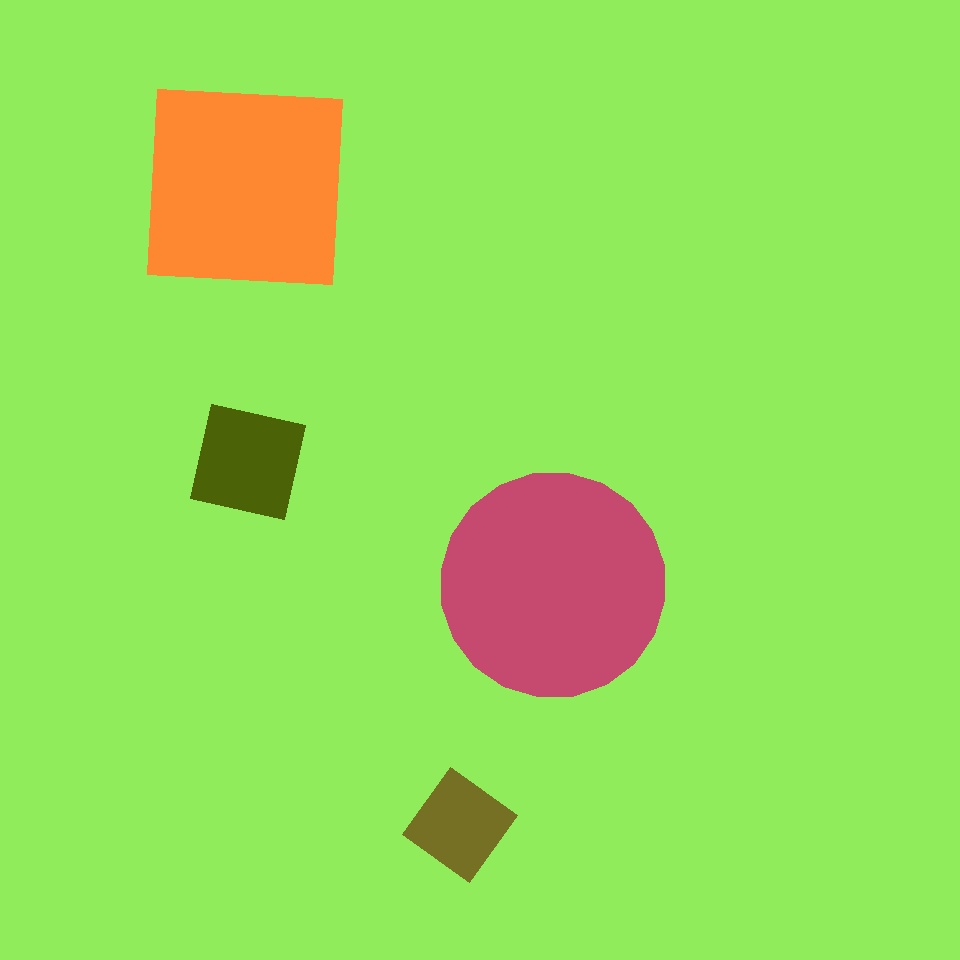square: (289, 483, 633, 827), (147, 90, 342, 284), (423, 535, 617, 729), (191, 404, 306, 520), (403, 768, 518, 882)
triangle: (442, 474, 664, 696)
